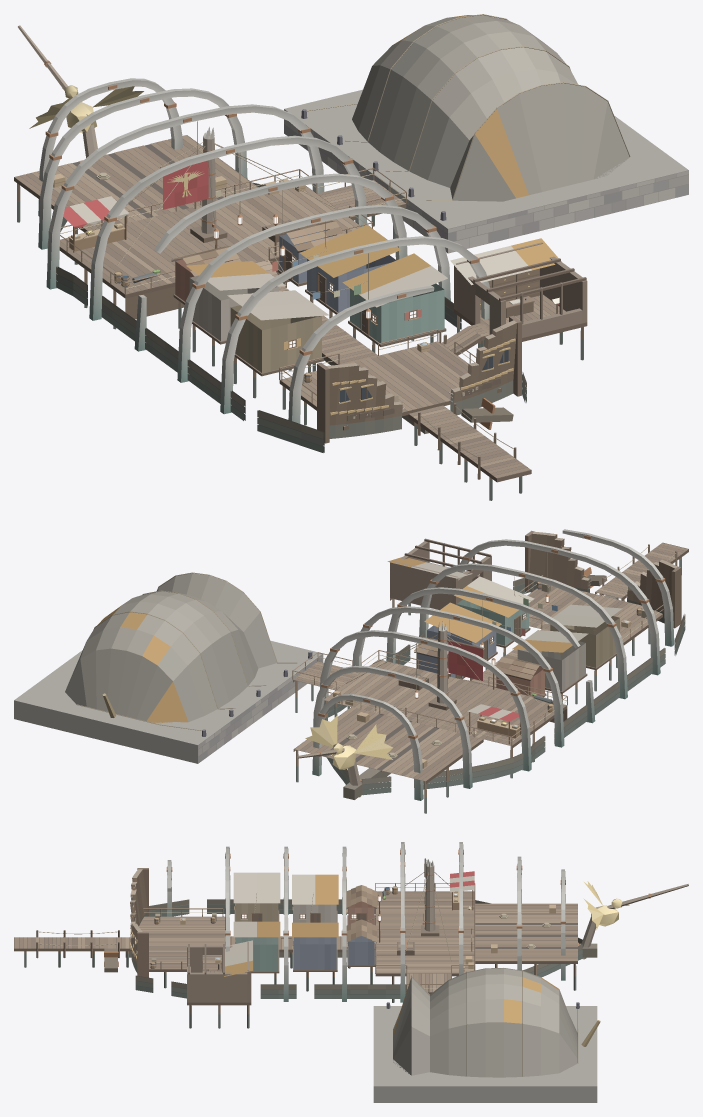
Rendered from sunken_ligero.glb.
3 renders of one model, top to bottom at view 1: azimuth 30°, elevation 25°; view 2: azimuth 150°, elevation 25°; view 3: azimuth 270°, elevation 25°, orthographic. The views are drawn at different scales.
Visible parts, largest first — view 1: edif_lona, bajo_suelos, bajo_dique, edif_popa, bajo_proa, bajo_casco, edif_casa_4, edif_casa_3, edif_archivo, costilla_260, costilla_200, costilla_380 (+17 smaller); view 2: edif_lona, bajo_suelos, bajo_dique, bajo_proa, bajo_casco, edif_popa, edif_archivo, costilla_200, costilla_260, costilla_380, edif_casa_1, edif_casa_3 (+15 smaller); view 3: edif_lona, bajo_suelos, bajo_dique, bajo_proa, bajo_casco, edif_archivo, edif_casa_3, edif_casa_2, edif_casa_1, edif_popa, edif_casa_4, bajo_cubierta (+13 smaller).
Part boxes in pixels (<box>): edif_lona: <box>307,14,630,201</box>; bajo_suelos: <box>59,167,531,500</box>; bajo_dique: <box>284,89,688,253</box>; edif_popa: <box>317,315,521,443</box>; bajo_proa: <box>14,135,258,264</box>; bajo_casco: <box>47,182,526,452</box>; edif_casa_4: <box>342,253,447,343</box>; edif_casa_3: <box>227,290,328,372</box>; edif_archivo: <box>454,242,587,337</box>; costilla_260: <box>89,135,367,320</box>; costilla_200: <box>46,104,324,289</box>; costilla_380: <box>177,205,450,382</box>; edif_lona: <box>65,572,296,730</box>; bajo_suelos: <box>292,542,688,778</box>; bajo_dique: <box>14,640,323,763</box>; bajo_proa: <box>293,707,483,813</box>; bajo_casco: <box>323,578,685,799</box>; edif_popa: <box>525,530,681,628</box>; edif_archivo: <box>390,541,491,609</box>; costilla_200: <box>320,630,531,771</box>; costilla_260: <box>352,606,564,747</box>; costilla_380: <box>418,563,627,699</box>; edif_casa_1: <box>512,630,588,691</box>; edif_casa_3: <box>545,604,622,667</box>; edif_lona: <box>393,968,600,1077</box>; bajo_suelos: <box>14,883,474,1002</box>; bajo_dique: <box>373,1002,597,1102</box>; bajo_proa: <box>475,903,577,990</box>; bajo_casco: <box>125,899,597,998</box>; edif_archivo: <box>187,942,251,1002</box>; edif_casa_3: <box>233,872,280,921</box>; edif_casa_2: <box>292,922,338,969</box>; edif_casa_1: <box>292,874,338,922</box>; edif_popa: <box>130,868,148,977</box>; edif_casa_4: <box>233,921,280,971</box>; bajo_cubierta: <box>377,871,475,971</box>.
Bounding box in the file's own units: 46.65 × 11.71 × 69.43.
